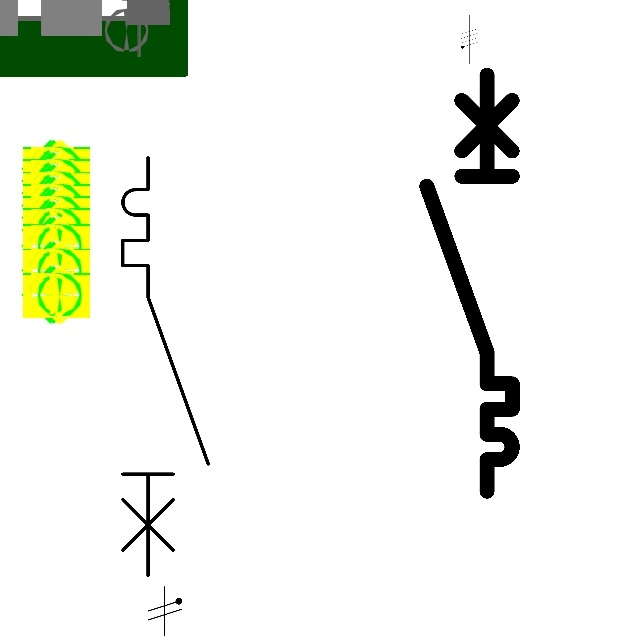interruptor_termomagnetico: (112, 147, 219, 586), (416, 64, 523, 502)
